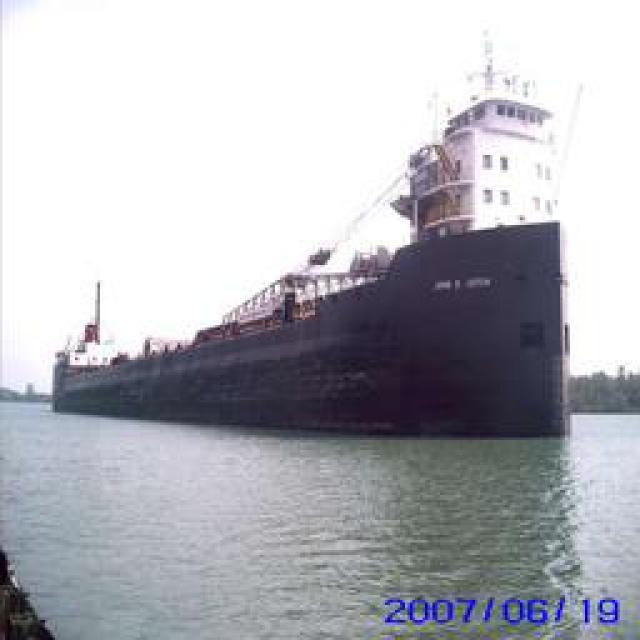Ship: (50, 215, 570, 440)
